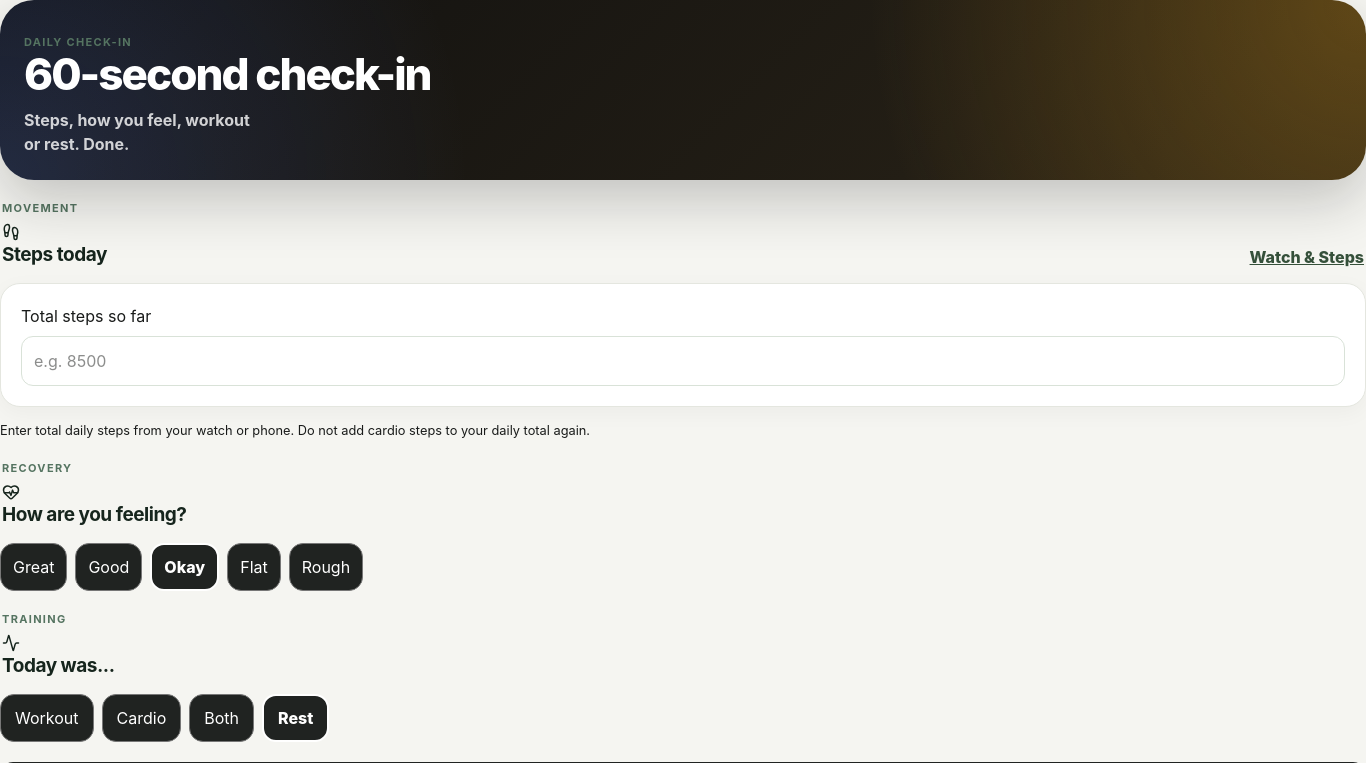
Test: daily check-in save and feedback › saves today's answers and confirms the entry is recorded
The width and height of the screenshot is (1366, 763).
Click the button "Good" at (109, 567), box [75,543,142,591]
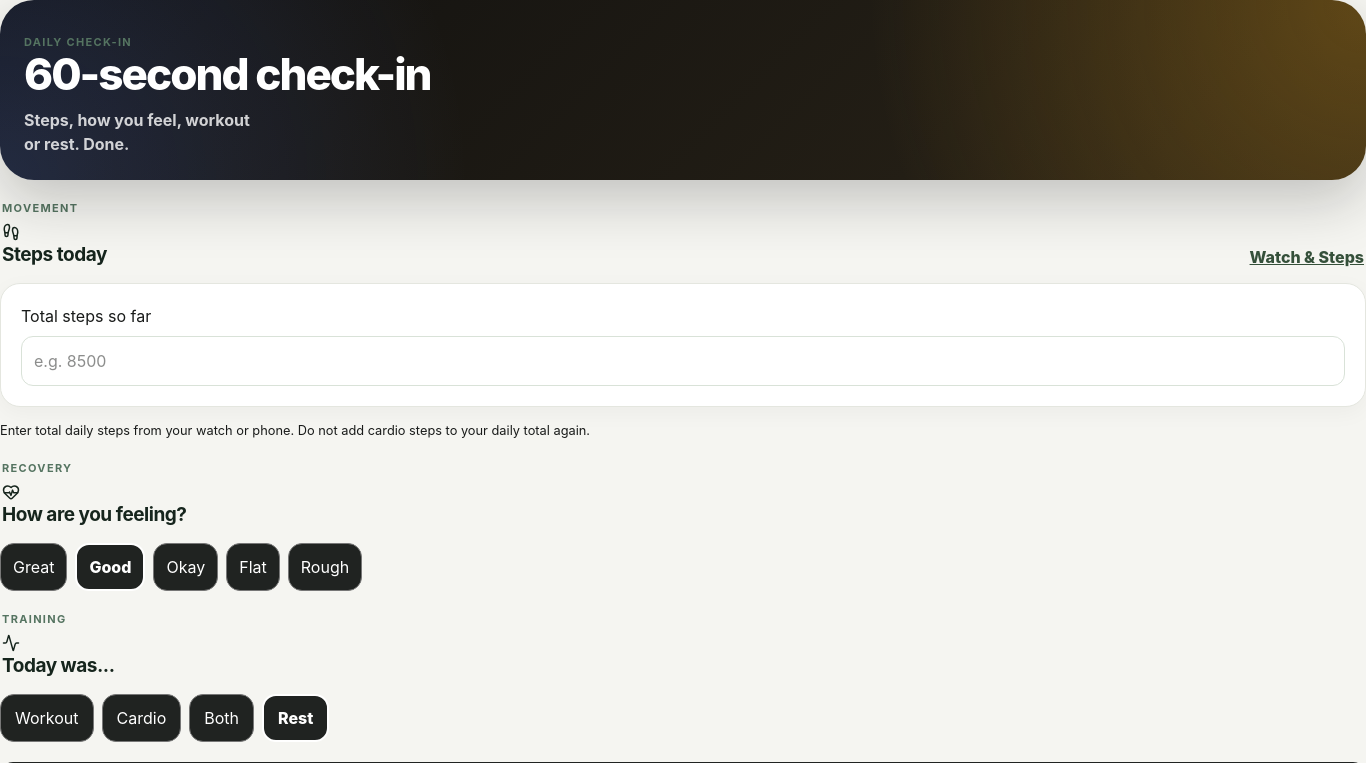
Click the button "Workout" at (47, 718), box [0,694,94,742]
(page scrolled)
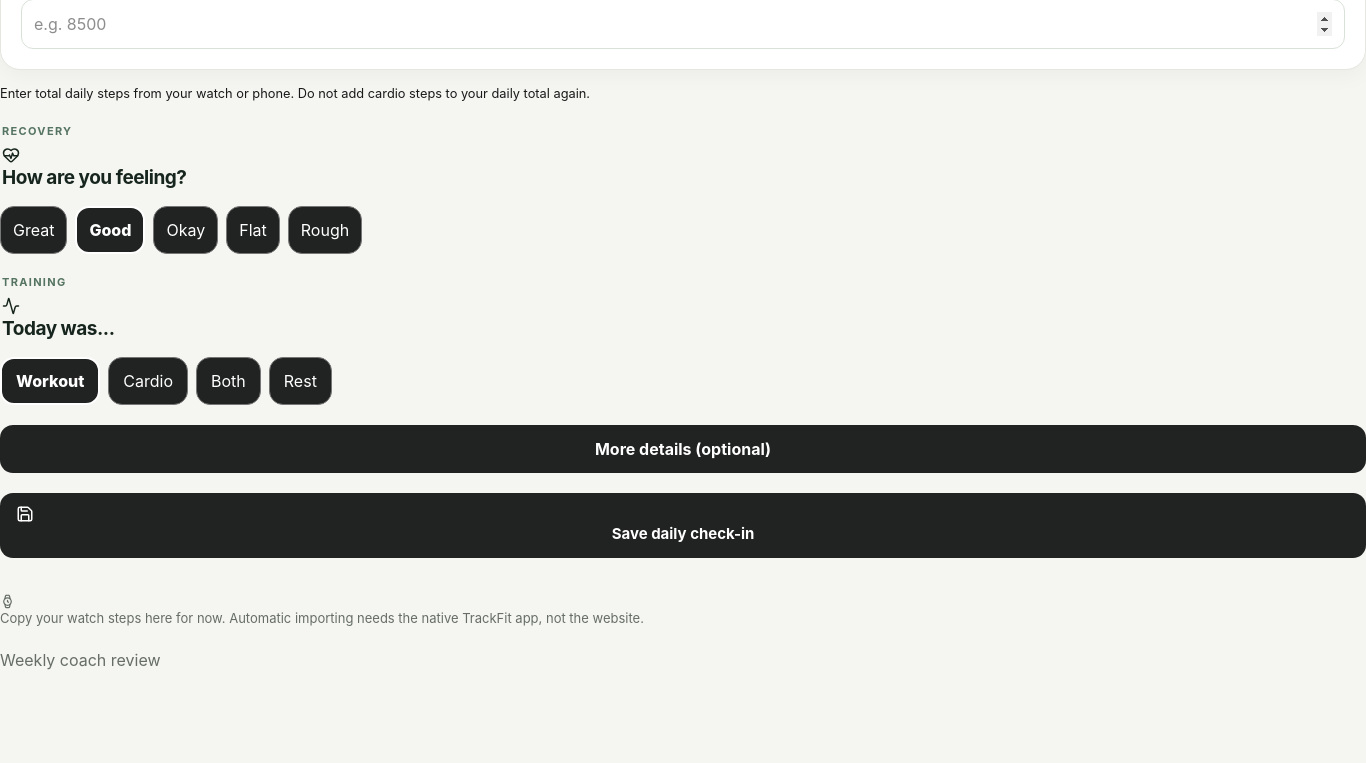
Click the button "Save daily check-in" at (683, 525), box [0,493,1365,558]
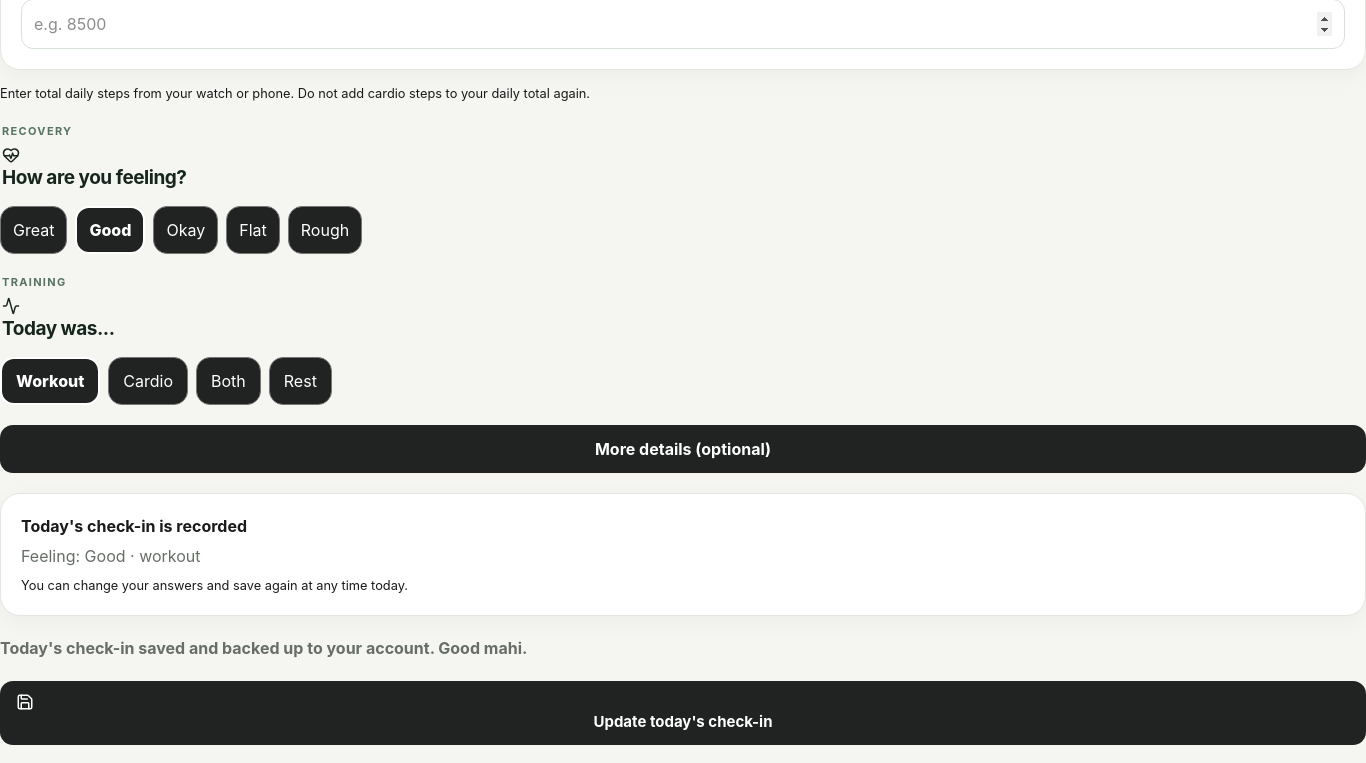
Check: the message shows "backed up to your account", box [0,638,527,658]
Check: the text "Today's check-in is recorded" is shown, box [21,516,247,536]
Check: the button "Update today's check-in" is shown, box [0,681,1365,745]
